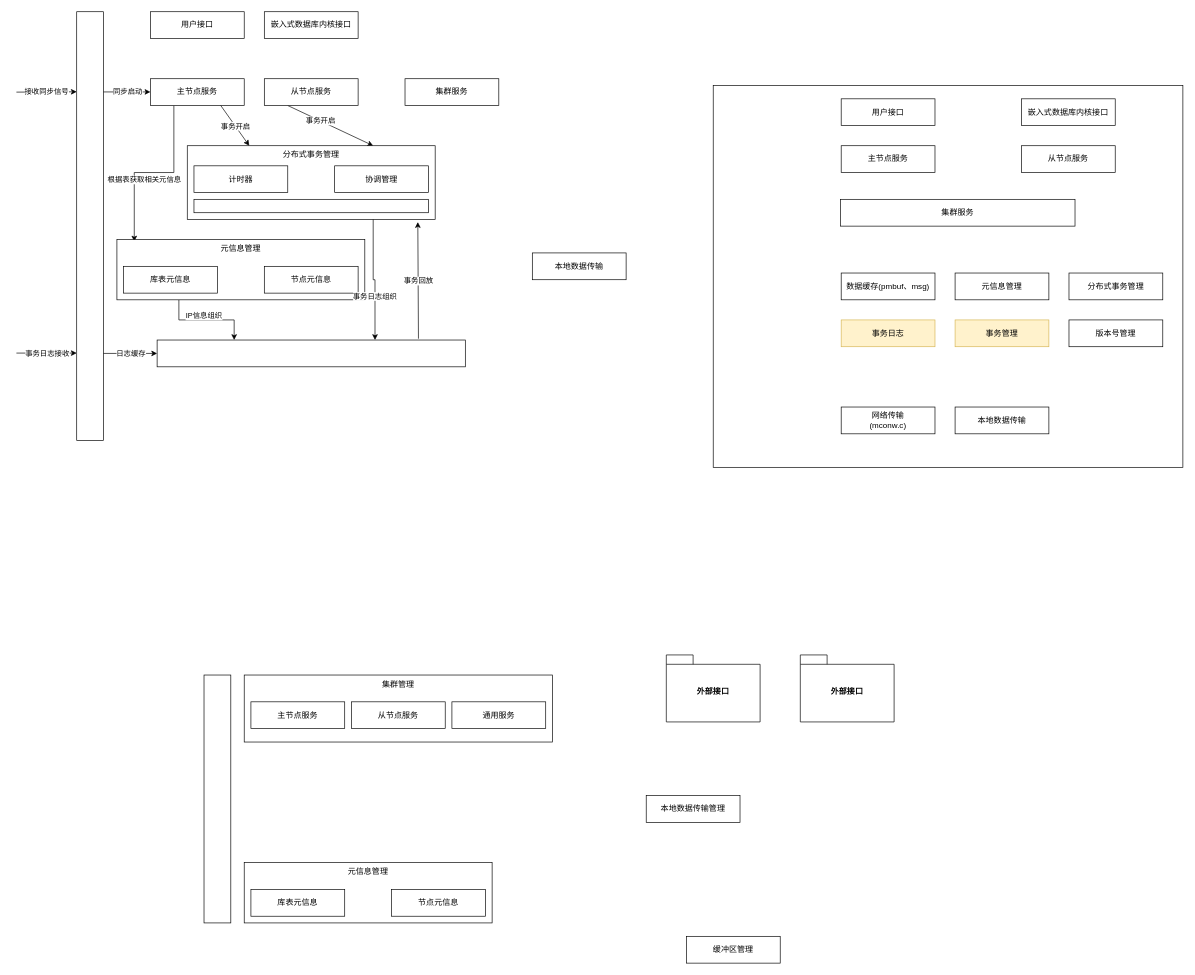
This 1195x975 diagram has some shape labels left out. The centre of each missing label's shape, as x and y in pixels:
数据缓存: point 310,353
本地事务支持接口: point 310,206
网 络 传 输: point 90,226
远 程 数 据 传 输 管 理: point 217,798
